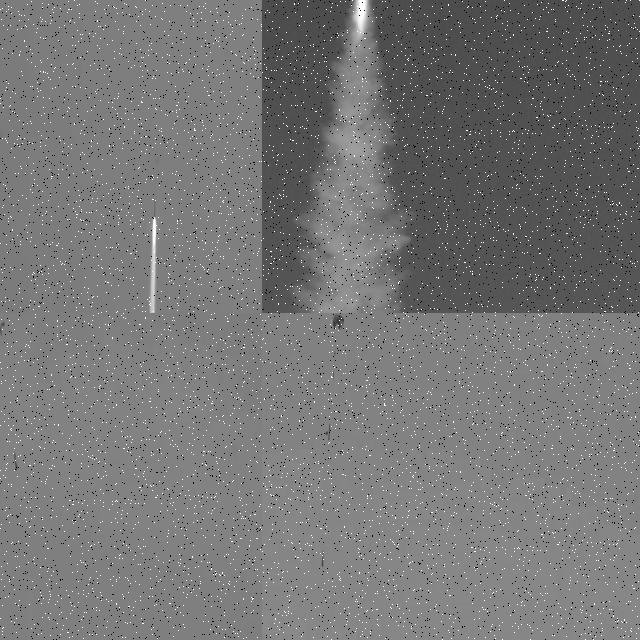Rocket: (14, 452, 18, 472), (153, 198, 156, 219), (321, 551, 324, 567)
